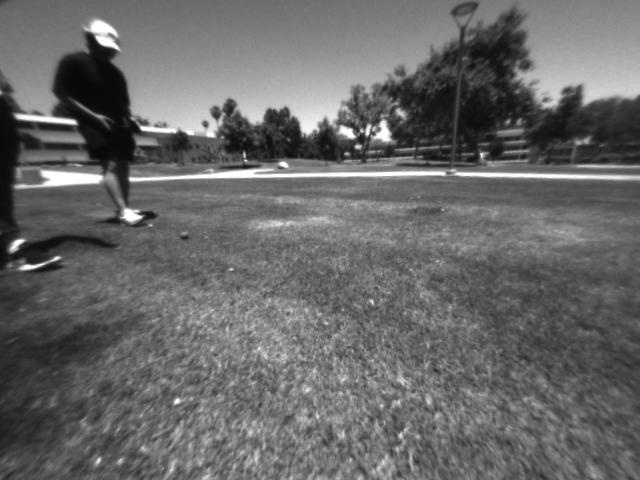dogtoy: (174, 227, 197, 245)
